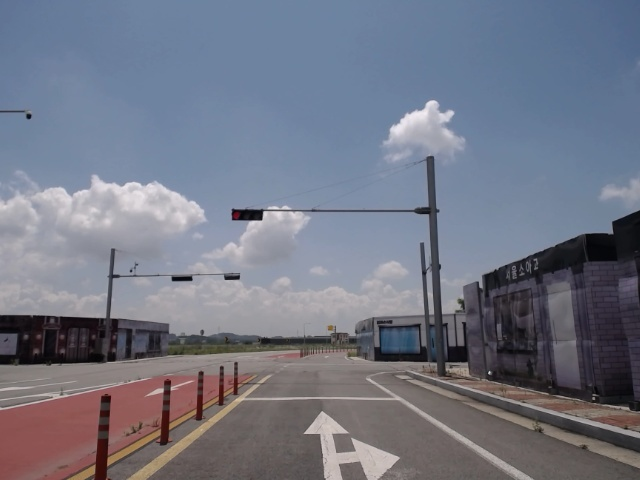red_3: (230, 206, 265, 223)
